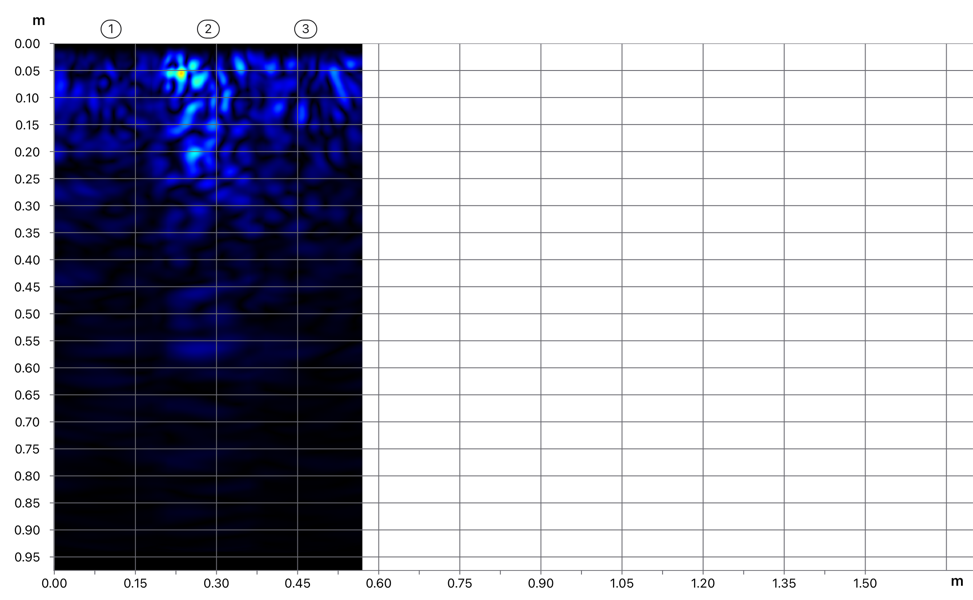crop: (1, 0, 363, 330)
